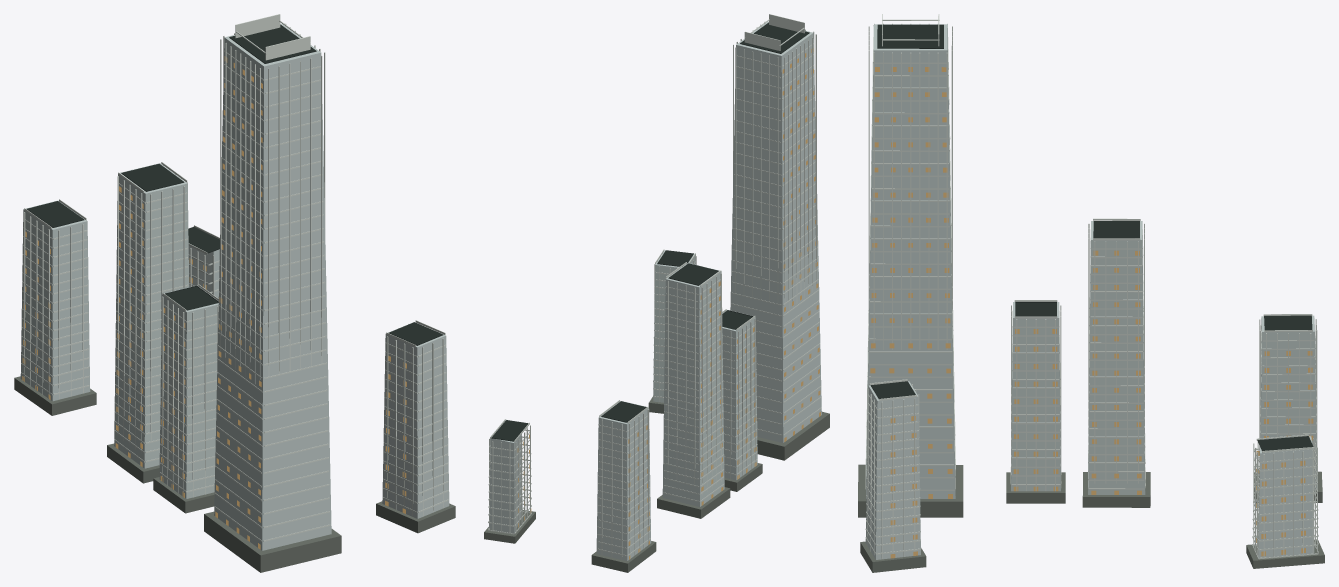
File: shenzhen-bay-one.glb
The picture shows the model from 3 angles, left to right: view 1: azimuth 30°, elevation 25°; view 2: azimuth 150°, elevation 25°; view 3: azimuth 270°, elevation 25°; orthographic projection. The views are drawn at different scales.
Parts seen in each view (by area): view 1: envelope, fins, floor_bands, podium, roof_deck, night_windows, crown_frame, parapet; view 2: envelope, fins, floor_bands, podium, roof_deck, night_windows, crown_frame; view 3: envelope, floor_bands, fins, podium, night_windows, roof_deck, parapet.
Boxes of the visible parts, x1,y1,x2,y2 form: envelope: [20, 23, 449, 550]; fins: [23, 23, 443, 516]; floor_bands: [21, 51, 448, 541]; podium: [14, 376, 455, 572]; roof_deck: [26, 24, 443, 345]; night_windows: [22, 56, 406, 549]; crown_frame: [235, 14, 310, 60]; parapet: [24, 162, 445, 346]; envelope: [489, 21, 821, 560]; fins: [489, 21, 816, 559]; floor_bands: [488, 43, 821, 556]; podium: [484, 397, 829, 572]; roof_deck: [491, 22, 809, 441]; night_windows: [517, 48, 820, 559]; crown_frame: [744, 14, 804, 50]; envelope: [865, 24, 1316, 559]; floor_bands: [865, 37, 1318, 559]; fins: [867, 23, 1317, 559]; podium: [858, 464, 1324, 572]; night_windows: [870, 67, 1313, 558]; roof_deck: [870, 24, 1313, 450]; parapet: [869, 218, 1314, 452].
Size of the model in its own units: 145 by 350 by 312.
